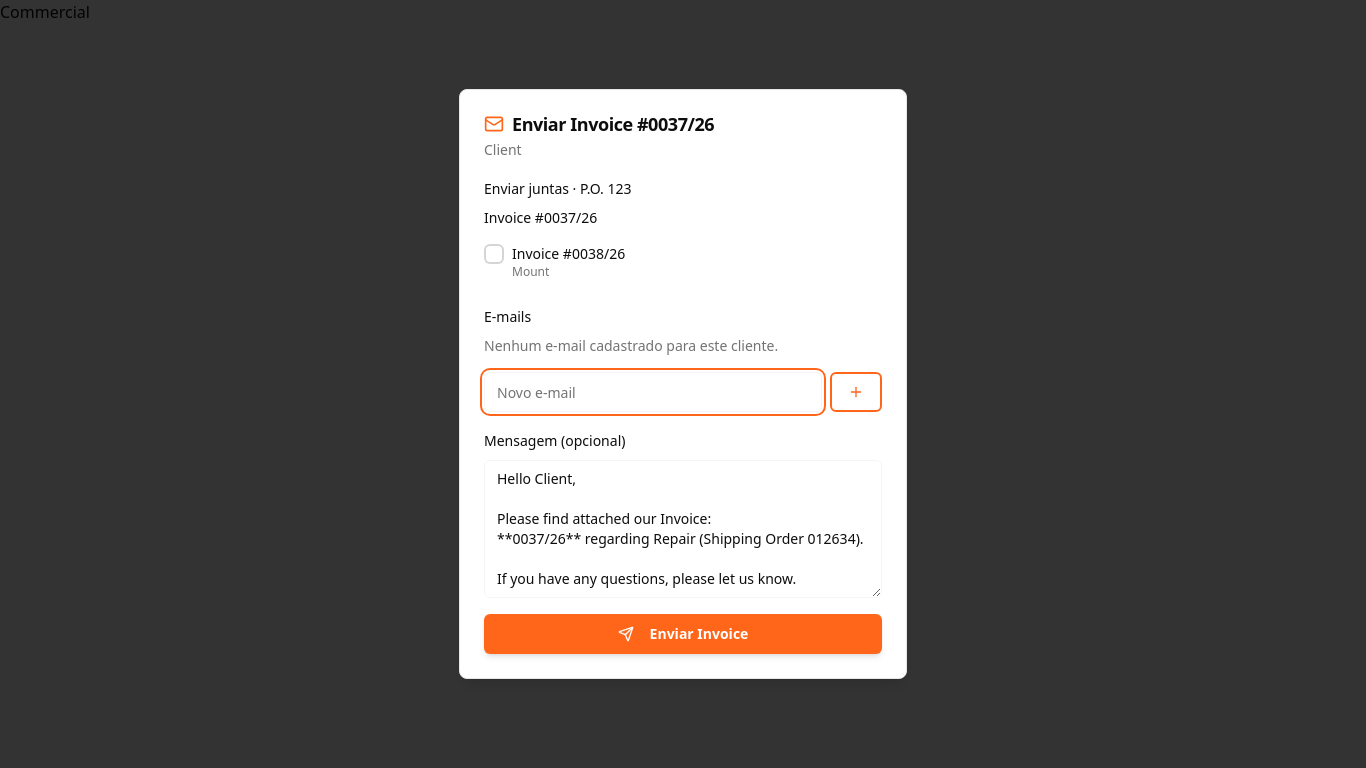
Test case: Email invoice selection › keeps Commercial mounted when sending closes the loaded same-P.O. modal
Click the checkbox named "Incluir Invoice 0038/26" at x=494, y=254, box [484, 244, 504, 264]
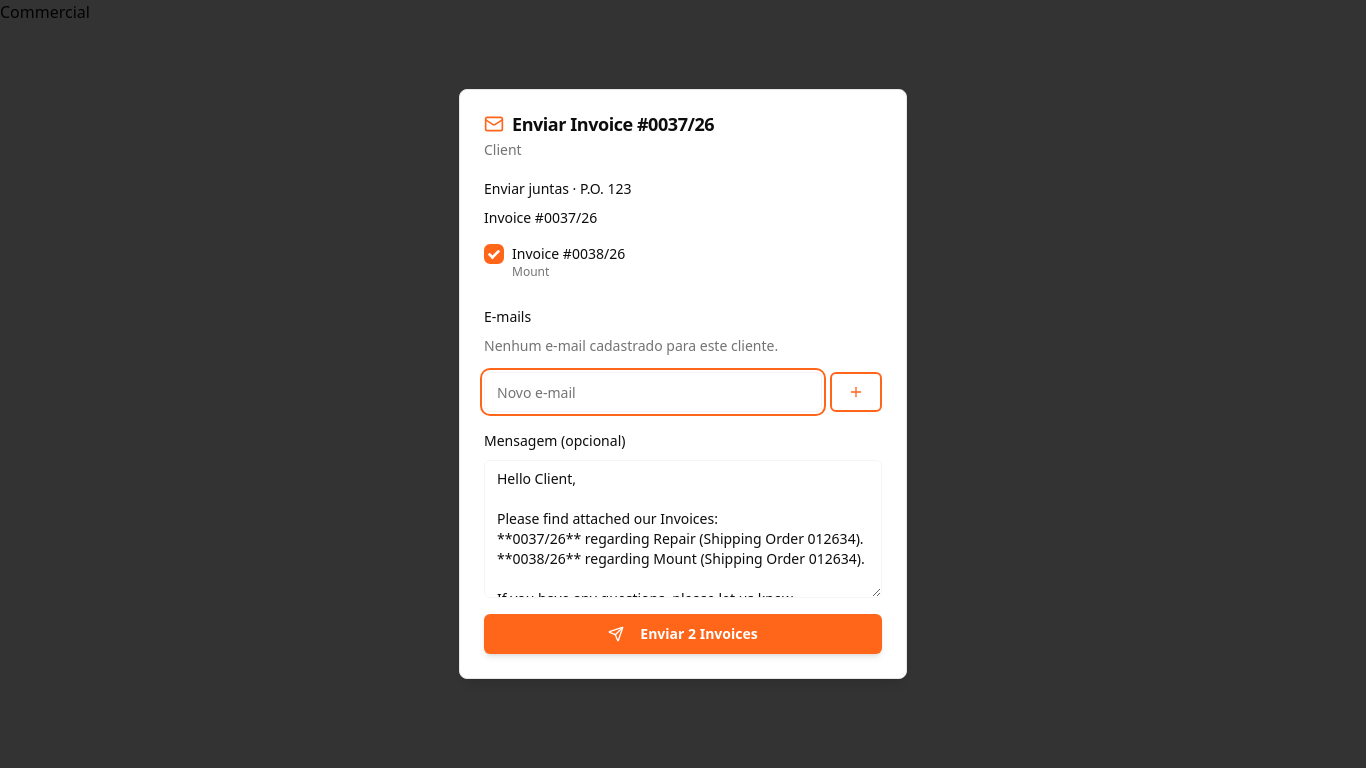
Type "client@example.com" into the field with placeholder "Novo e-mail" at x=653, y=392, box [484, 372, 822, 412]
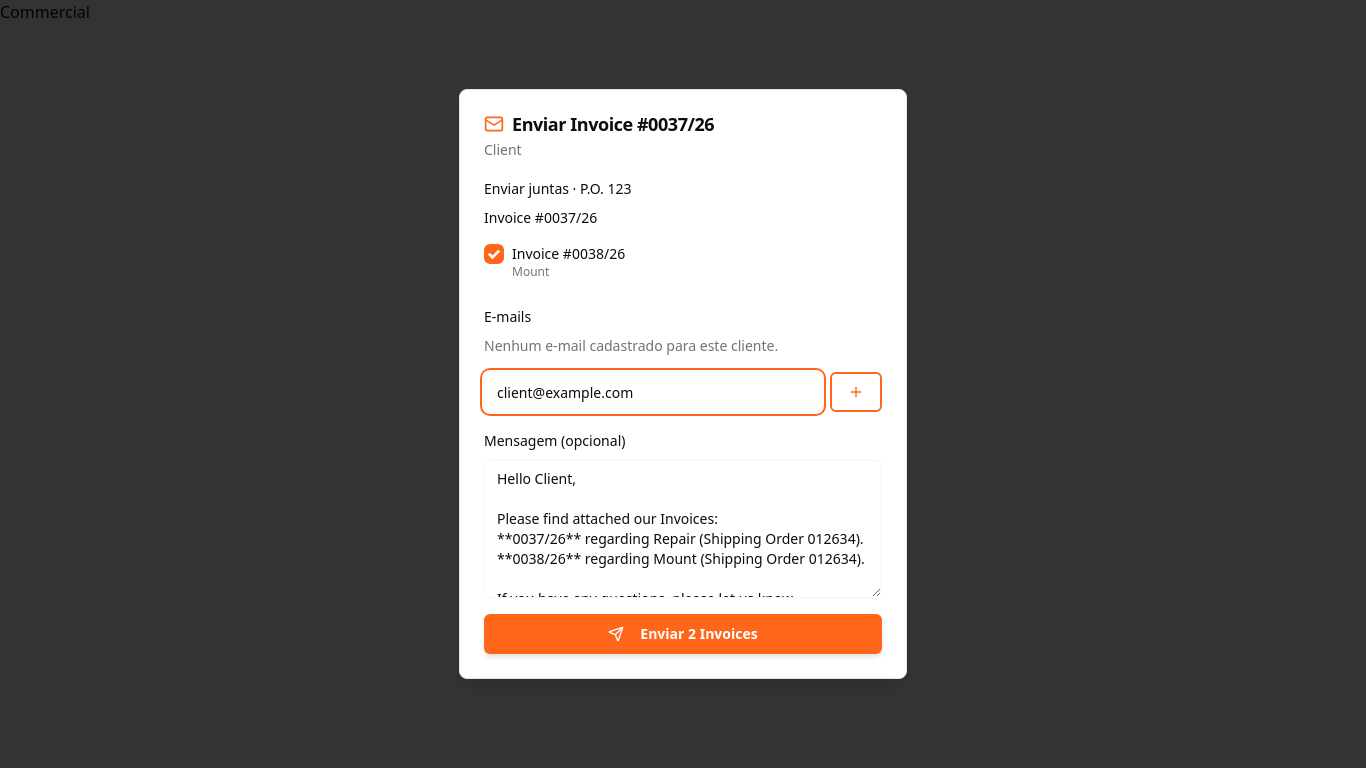
Press Enter in the field with placeholder "Novo e-mail", box [484, 372, 822, 412]
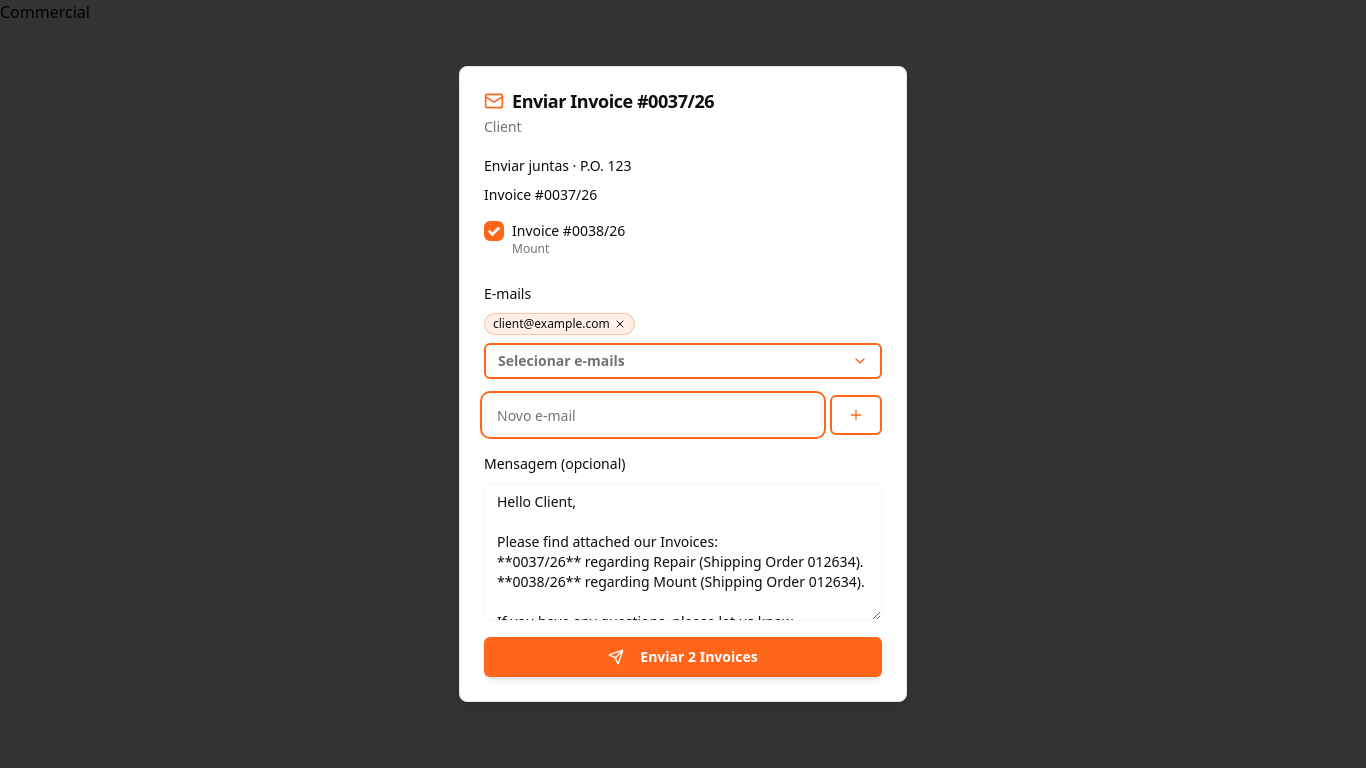
Click the button "Enviar 2 Invoices" at x=683, y=657, box [484, 637, 882, 677]
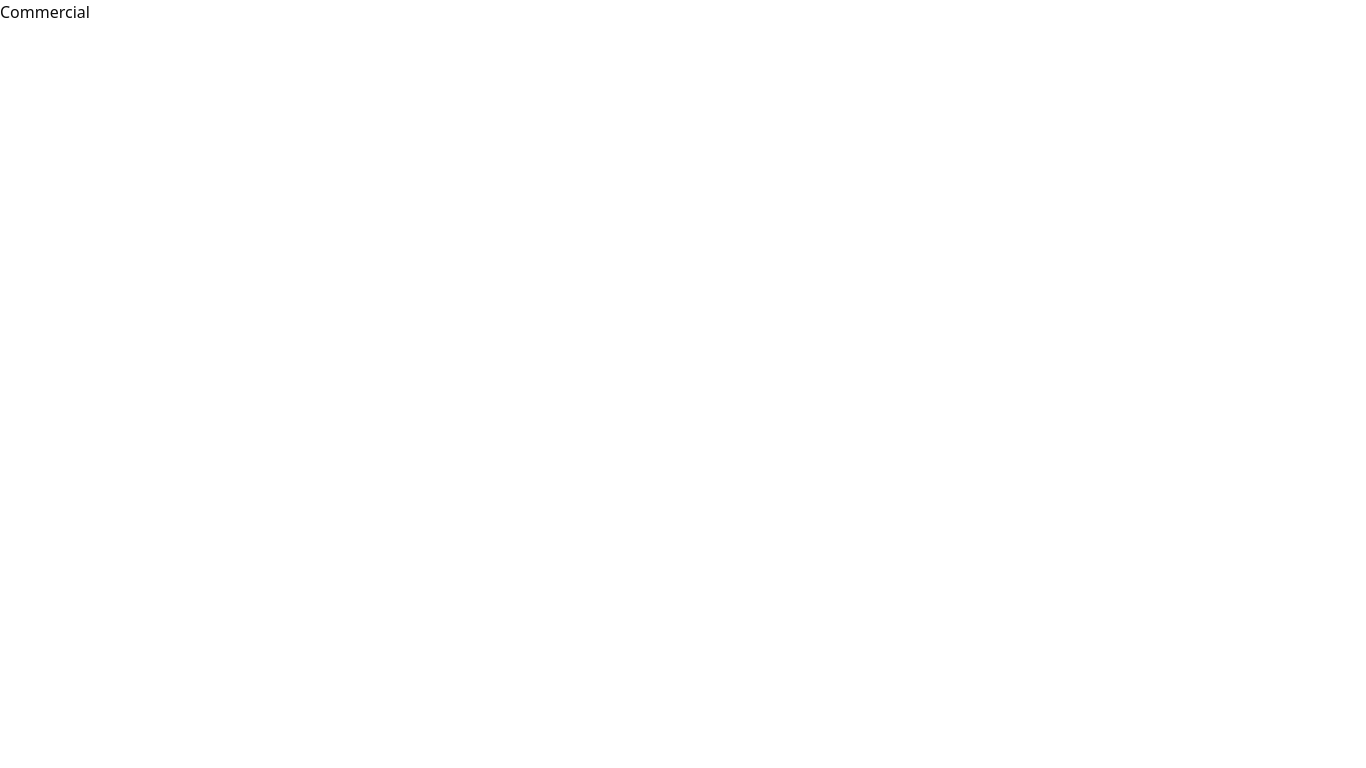
Expected: the text "Commercial" is shown, [0, 1, 90, 23]
Expected: the dialog is gone
